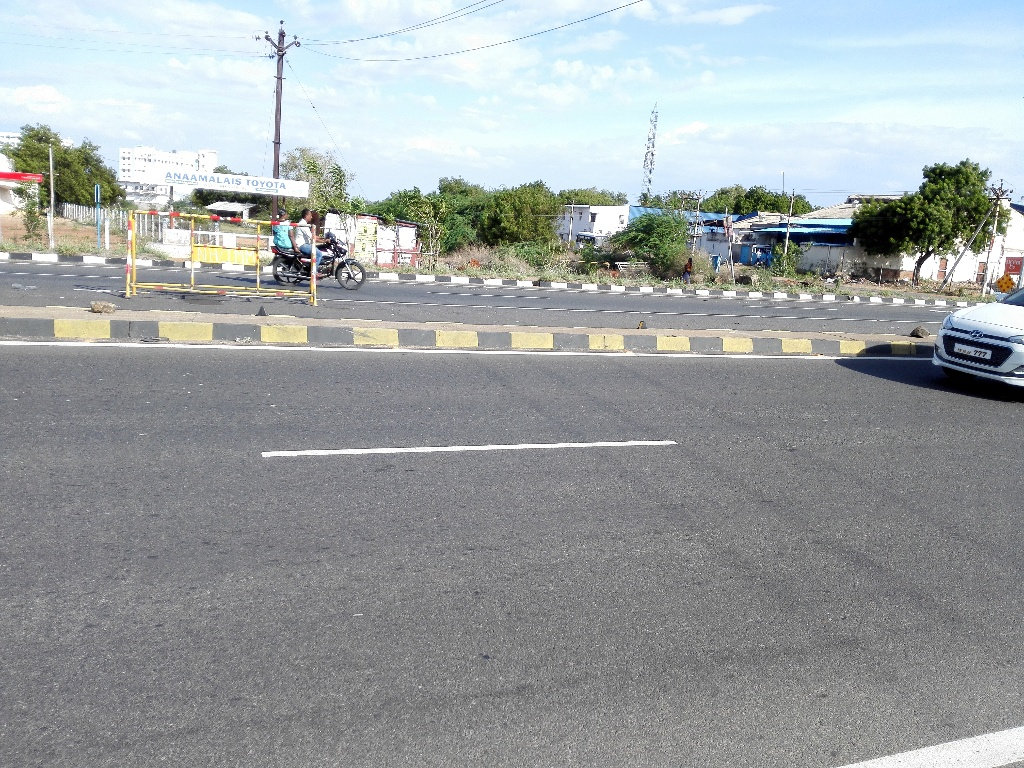biker: (262, 183, 380, 297)
nohelmet: (298, 204, 321, 229), (274, 205, 297, 230)
